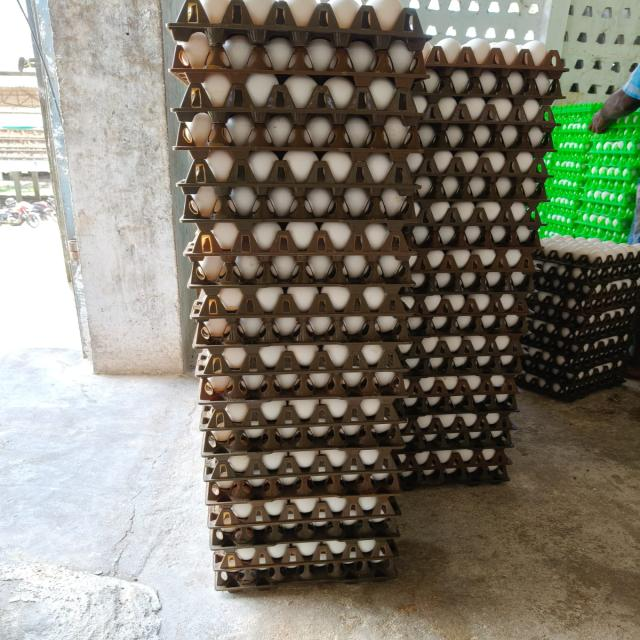egg_tray: (192, 225, 411, 348), (173, 35, 425, 125), (182, 187, 540, 250), (193, 286, 529, 353), (187, 222, 414, 315), (173, 71, 419, 156), (202, 397, 401, 502), (202, 398, 399, 504), (174, 76, 419, 159), (174, 74, 417, 156), (521, 236, 639, 400), (173, 74, 424, 151), (399, 334, 521, 488), (207, 449, 399, 546), (167, 0, 428, 66), (210, 478, 397, 568), (185, 221, 415, 294), (414, 38, 564, 147), (204, 424, 402, 501), (209, 482, 399, 562), (192, 285, 413, 352), (188, 222, 412, 288), (207, 472, 400, 548), (208, 476, 399, 550), (207, 432, 400, 505), (171, 33, 427, 88), (202, 399, 405, 467), (211, 496, 397, 570), (208, 474, 399, 546), (407, 149, 548, 244), (211, 517, 397, 589), (408, 149, 548, 244), (541, 105, 637, 242), (219, 399, 401, 471), (198, 343, 405, 406), (413, 150, 548, 245), (196, 344, 406, 404), (209, 495, 399, 561), (407, 201, 540, 294), (413, 66, 558, 147), (174, 113, 420, 160), (200, 397, 403, 453), (208, 492, 399, 550), (181, 186, 425, 231), (398, 396, 516, 489), (178, 150, 414, 196), (204, 449, 399, 504), (205, 449, 399, 504), (204, 445, 398, 499), (205, 448, 398, 502), (196, 343, 405, 392), (208, 495, 400, 547), (189, 250, 415, 294), (186, 220, 415, 263), (407, 141, 549, 209), (204, 448, 397, 498), (196, 344, 404, 390), (188, 252, 415, 294), (520, 316, 633, 400), (202, 398, 398, 446), (214, 540, 397, 590), (398, 411, 515, 488), (403, 270, 532, 339), (423, 38, 566, 100), (413, 94, 555, 156), (203, 426, 403, 470), (399, 292, 530, 359), (201, 397, 401, 440), (398, 292, 530, 357), (531, 236, 639, 315), (414, 48, 563, 105), (419, 98, 555, 158), (413, 94, 555, 147), (523, 318, 634, 384), (406, 201, 541, 254), (407, 150, 548, 199), (519, 331, 632, 392), (202, 423, 404, 457), (408, 202, 540, 254), (402, 375, 517, 433), (537, 108, 588, 236), (411, 242, 535, 294), (405, 292, 530, 343), (407, 245, 535, 294), (554, 103, 639, 176), (414, 200, 540, 246), (216, 559, 397, 591), (214, 539, 398, 570), (524, 306, 635, 357), (549, 178, 635, 242), (397, 375, 518, 419), (523, 318, 632, 366), (523, 318, 633, 365), (534, 235, 639, 284), (529, 279, 637, 326), (413, 170, 546, 208), (534, 236, 639, 284), (403, 334, 522, 376), (418, 121, 553, 158), (398, 446, 511, 490), (526, 305, 635, 350), (402, 442, 508, 488), (520, 355, 627, 400), (586, 114, 639, 204), (523, 334, 633, 377), (523, 337, 632, 380), (402, 412, 515, 452), (541, 125, 590, 216), (521, 359, 626, 401), (412, 242, 538, 275), (528, 307, 634, 346), (412, 439, 508, 481), (565, 184, 634, 242), (535, 260, 639, 298), (530, 281, 638, 315), (405, 374, 518, 406), (530, 300, 636, 333), (536, 273, 639, 306), (405, 389, 516, 419), (523, 371, 624, 402), (559, 202, 634, 242), (401, 464, 510, 491), (555, 206, 633, 242), (581, 166, 636, 215), (553, 107, 593, 174), (538, 184, 589, 236), (546, 129, 588, 189), (552, 106, 593, 160), (589, 125, 639, 168), (553, 107, 593, 159), (540, 196, 590, 236), (547, 156, 584, 208), (541, 173, 583, 218), (554, 102, 601, 141), (350, 42, 419, 68), (586, 158, 638, 190), (324, 558, 393, 579), (555, 102, 601, 130), (600, 111, 639, 140), (217, 570, 274, 588), (273, 564, 322, 583), (299, 40, 335, 65), (216, 441, 247, 467), (251, 500, 297, 517), (264, 451, 298, 473), (290, 223, 329, 242), (293, 476, 320, 496), (216, 452, 246, 468), (502, 314, 526, 334), (328, 476, 352, 494), (297, 496, 339, 506), (429, 474, 471, 483), (207, 429, 236, 442), (311, 449, 354, 457), (203, 408, 220, 427), (266, 451, 294, 462), (193, 124, 207, 146), (273, 223, 291, 239), (356, 540, 375, 553), (217, 223, 237, 235), (451, 131, 468, 144), (216, 444, 230, 459), (234, 488, 253, 499), (514, 112, 527, 128), (532, 117, 549, 129), (513, 278, 530, 290), (491, 229, 505, 243), (262, 350, 277, 363), (317, 530, 339, 538), (268, 39, 287, 48), (438, 156, 450, 170), (232, 503, 247, 514), (362, 450, 389, 456), (245, 480, 265, 488), (357, 476, 367, 492), (427, 300, 439, 313), (452, 299, 465, 311), (491, 230, 504, 242), (260, 402, 279, 410), (363, 398, 382, 406), (205, 406, 223, 414), (210, 153, 223, 164), (414, 95, 424, 108), (325, 305, 341, 313), (324, 450, 345, 456), (492, 231, 502, 243), (229, 41, 239, 53), (297, 484, 309, 494), (330, 479, 342, 489), (329, 478, 339, 490), (492, 426, 505, 435), (236, 452, 246, 463), (226, 353, 237, 363), (332, 544, 344, 553), (420, 125, 432, 134), (357, 497, 378, 502), (229, 456, 242, 464), (351, 344, 361, 354), (194, 304, 203, 315), (259, 303, 270, 312), (178, 135, 189, 144), (326, 306, 340, 313), (301, 546, 315, 553), (221, 304, 234, 311), (220, 245, 233, 252), (211, 465, 221, 474), (414, 230, 423, 240), (290, 400, 300, 409), (260, 305, 271, 313), (470, 235, 481, 243), (494, 429, 503, 438), (237, 454, 246, 463), (295, 304, 305, 312), (476, 326, 486, 334), (260, 305, 271, 312), (294, 305, 305, 312), (281, 477, 292, 484), (204, 305, 211, 316), (295, 303, 306, 310), (328, 223, 346, 227), (422, 132, 431, 140), (437, 326, 449, 332), (465, 202, 473, 211), (229, 234, 236, 244), (237, 403, 247, 410), (258, 232, 268, 239), (518, 203, 525, 213), (265, 490, 282, 494), (296, 558, 309, 563), (359, 482, 367, 490), (393, 190, 401, 198), (329, 530, 336, 539), (473, 39, 482, 46), (289, 531, 296, 540), (580, 132, 590, 138), (223, 304, 233, 310), (373, 530, 388, 534), (414, 96, 421, 104), (473, 41, 487, 45), (303, 481, 310, 489), (299, 485, 306, 493), (396, 234, 403, 242), (223, 305, 234, 310), (316, 465, 326, 470), (213, 138, 223, 143), (519, 53, 526, 60), (284, 422, 291, 429), (405, 465, 412, 472), (399, 344, 405, 352), (234, 447, 242, 453), (356, 531, 364, 537), (306, 248, 314, 254), (364, 496, 376, 500), (210, 470, 215, 479), (189, 123, 194, 132), (467, 103, 474, 109), (463, 280, 470, 286), (441, 281, 447, 288), (454, 456, 461, 462), (385, 399, 391, 406), (594, 104, 601, 110), (460, 54, 465, 62), (218, 479, 226, 484), (444, 39, 454, 43), (257, 558, 265, 563), (276, 452, 286, 456), (421, 134, 427, 140), (361, 482, 367, 488), (220, 494, 229, 498), (351, 142, 357, 148), (334, 507, 343, 511), (254, 536, 259, 543), (307, 438, 312, 445), (537, 137, 542, 144), (401, 458, 406, 465), (385, 499, 390, 506), (394, 467, 397, 478), (259, 402, 267, 406), (318, 563, 326, 567), (287, 154, 295, 158), (335, 398, 343, 402), (621, 168, 629, 172), (451, 125, 459, 129), (434, 203, 442, 207), (633, 158, 637, 166), (479, 140, 485, 145), (350, 460, 353, 470), (245, 42, 250, 48), (321, 487, 327, 492), (253, 225, 259, 230), (317, 523, 327, 526), (351, 501, 357, 506), (601, 198, 611, 201), (590, 110, 594, 117), (368, 398, 375, 402), (342, 235, 349, 239), (332, 518, 339, 522), (494, 377, 501, 381), (297, 452, 306, 455), (331, 452, 340, 455), (442, 151, 451, 154), (523, 317, 525, 330), (406, 346, 411, 351), (226, 469, 231, 474), (456, 240, 461, 245), (469, 230, 474, 235), (474, 456, 479, 461), (610, 211, 615, 216), (318, 507, 323, 512), (418, 178, 424, 182), (235, 36, 243, 39), (443, 229, 449, 233), (224, 183, 228, 189), (586, 104, 592, 108), (493, 282, 499, 286), (587, 192, 591, 198), (568, 166, 579, 168), (221, 480, 228, 483), (216, 359, 221, 363), (358, 451, 363, 455), (326, 400, 331, 404), (407, 460, 412, 464), (495, 124, 500, 128), (252, 410, 257, 414), (505, 359, 510, 363), (349, 532, 354, 536), (260, 304, 265, 308), (331, 516, 336, 520), (307, 438, 312, 442), (235, 456, 244, 458), (409, 155, 412, 161), (532, 139, 535, 145), (367, 237, 370, 243), (570, 166, 579, 168), (270, 401, 279, 403), (333, 558, 339, 561), (379, 553, 388, 555), (460, 234, 466, 237), (365, 532, 371, 535), (357, 508, 363, 511), (244, 469, 248, 473), (567, 302, 571, 306), (321, 568, 325, 572), (210, 512, 214, 516), (358, 451, 362, 455), (331, 405, 335, 409), (381, 189, 385, 193), (213, 276, 217, 280), (410, 363, 414, 367), (303, 553, 311, 555), (454, 446, 462, 448), (210, 484, 214, 488), (551, 189, 555, 193), (471, 378, 475, 382), (444, 203, 448, 207), (221, 454, 225, 458), (349, 345, 354, 348), (217, 240, 220, 245), (275, 479, 278, 484), (301, 71, 306, 74), (350, 553, 353, 558), (522, 247, 527, 250), (414, 231, 419, 234), (505, 307, 510, 310), (226, 141, 229, 146), (330, 516, 335, 519), (338, 487, 341, 492), (207, 421, 210, 426), (368, 417, 373, 420), (446, 450, 451, 453), (619, 200, 624, 203), (331, 532, 334, 537), (301, 354, 308, 356), (212, 166, 214, 173), (232, 190, 234, 197), (355, 359, 359, 362), (325, 357, 328, 361), (396, 446, 400, 449), (547, 134, 550, 138), (583, 122, 586, 126), (345, 475, 349, 478), (358, 473, 362, 476), (475, 103, 479, 106), (449, 103, 452, 107), (398, 308, 401, 312), (225, 255, 229, 258), (392, 551, 395, 555), (262, 156, 268, 158), (270, 406, 273, 410), (333, 306, 337, 309), (483, 304, 487, 307), (212, 224, 215, 228), (293, 400, 297, 403), (268, 454, 274, 456), (512, 317, 515, 321), (518, 281, 522, 284), (307, 513, 311, 516), (335, 507, 339, 510), (359, 497, 363, 500), (556, 280, 558, 285), (619, 310, 624, 312), (220, 481, 225, 483), (223, 480, 228, 482), (495, 227, 500, 229), (294, 186, 299, 188), (249, 275, 254, 277), (481, 361, 486, 363), (614, 168, 619, 170), (347, 226, 349, 231), (265, 223, 270, 225), (478, 318, 483, 320), (332, 437, 335, 440), (583, 126, 586, 129), (464, 46, 467, 49), (323, 473, 326, 476), (217, 467, 220, 470), (238, 60, 241, 63), (385, 487, 388, 490), (305, 487, 308, 490), (318, 532, 321, 535), (395, 446, 398, 449), (587, 203, 590, 206), (497, 474, 500, 477), (409, 446, 412, 449), (218, 154, 221, 157), (463, 327, 466, 330), (213, 355, 215, 359), (252, 467, 254, 471), (238, 460, 240, 464), (230, 442, 232, 446), (296, 476, 298, 480), (219, 476, 221, 480), (332, 470, 334, 474), (362, 557, 366, 559), (382, 477, 386, 479), (297, 549, 301, 551), (479, 308, 483, 310), (497, 417, 499, 421), (361, 484, 365, 486), (324, 345, 331, 346), (267, 227, 274, 228), (318, 358, 320, 361), (318, 532, 321, 534), (569, 229, 571, 232), (217, 163, 219, 166), (590, 172, 592, 175), (598, 171, 600, 174), (426, 45, 428, 48), (474, 110, 476, 113), (219, 310, 222, 312), (563, 327, 565, 330), (427, 44, 430, 46), (344, 51, 346, 54), (332, 550, 335, 552), (284, 478, 287, 480), (378, 313, 381, 315), (238, 487, 240, 490), (340, 478, 342, 481), (318, 426, 321, 428), (486, 232, 488, 235), (551, 218, 553, 221), (396, 152, 399, 154), (361, 416, 364, 418), (258, 557, 259, 563), (491, 284, 494, 286), (252, 64, 255, 66), (301, 256, 304, 258), (395, 247, 398, 249), (205, 245, 207, 248), (210, 234, 212, 237), (211, 156, 213, 159), (371, 508, 374, 510), (404, 400, 407, 402), (461, 296, 463, 299), (423, 125, 428, 126), (392, 492, 397, 493), (319, 558, 324, 559), (381, 532, 386, 533), (225, 487, 230, 488), (299, 238, 300, 243), (210, 360, 212, 362), (327, 442, 329, 444), (588, 116, 590, 118), (588, 118, 590, 120), (286, 466, 288, 468), (299, 247, 303, 248), (229, 227, 231, 229), (532, 202, 534, 204), (425, 178, 427, 180), (314, 476, 316, 478), (545, 138, 547, 140), (282, 402, 284, 404), (225, 486, 227, 488), (225, 481, 227, 483), (237, 460, 239, 462), (299, 156, 303, 157), (225, 487, 227, 489), (276, 482, 277, 486), (363, 478, 365, 480), (363, 400, 367, 401), (368, 188, 370, 190), (359, 43, 363, 44), (404, 452, 406, 454), (245, 481, 247, 483), (334, 256, 338, 257), (327, 527, 331, 528), (296, 156, 300, 157), (523, 206, 524, 210), (498, 413, 500, 415), (497, 204, 499, 206), (497, 206, 499, 208), (551, 348, 553, 350), (252, 467, 253, 471), (227, 456, 229, 458), (327, 351, 330, 352), (382, 436, 385, 437), (398, 309, 401, 310), (372, 252, 375, 253), (375, 554, 378, 555), (287, 556, 290, 557), (217, 163, 220, 164), (375, 418, 378, 419), (280, 407, 283, 408), (310, 298, 311, 301), (447, 312, 450, 313), (482, 298, 485, 299), (361, 223, 362, 226), (319, 169, 322, 170), (237, 36, 240, 37), (377, 418, 380, 419), (513, 215, 514, 218), (404, 400, 405, 403), (432, 327, 435, 328), (365, 437, 366, 440), (293, 538, 295, 539), (349, 442, 351, 443), (369, 438, 371, 439), (525, 195, 527, 196), (207, 158, 208, 160), (548, 208, 550, 209), (598, 174, 600, 175), (210, 393, 212, 394), (618, 174, 619, 176), (426, 45, 427, 47), (426, 47, 427, 49), (458, 44, 459, 46), (579, 316, 581, 317), (567, 314, 568, 316), (555, 328, 556, 330), (368, 556, 370, 557), (382, 473, 383, 475), (409, 144, 410, 146), (244, 38, 245, 40), (294, 558, 295, 560), (288, 478, 290, 479), (291, 348, 293, 349), (383, 425, 385, 426), (316, 405, 318, 406), (556, 231, 558, 232), (406, 255, 407, 257), (196, 190, 197, 192), (403, 189, 405, 190), (257, 190, 259, 191), (487, 238, 488, 240), (472, 225, 474, 226), (459, 425, 461, 426), (221, 481, 223, 482), (547, 233, 549, 234), (301, 156, 303, 157), (465, 320, 466, 322), (503, 318, 504, 320), (504, 319, 506, 320), (267, 516, 268, 518), (318, 518, 319, 519), (554, 207, 555, 208), (486, 43, 487, 44), (229, 294, 230, 295), (551, 325, 552, 326), (253, 234, 254, 235), (312, 478, 313, 479), (229, 567, 230, 568), (272, 481, 273, 482), (302, 492, 303, 493), (340, 345, 341, 346), (330, 307, 331, 308), (218, 233, 219, 234), (346, 194, 347, 195), (316, 518, 317, 519), (233, 407, 234, 408), (227, 405, 228, 406), (514, 212, 515, 213), (541, 176, 542, 177), (485, 443, 486, 444), (289, 487, 290, 488), (636, 136, 637, 137), (591, 114, 592, 115), (452, 203, 453, 204), (502, 187, 503, 188), (326, 509, 327, 510), (305, 507, 306, 508), (300, 368, 301, 368), (334, 528, 334, 528), (304, 452, 307, 452), (588, 118, 588, 118), (494, 50, 494, 50), (378, 474, 381, 474), (503, 347, 503, 348), (252, 292, 252, 292), (563, 323, 564, 323), (316, 261, 319, 261), (257, 250, 257, 250), (292, 470, 293, 470), (254, 430, 256, 430), (465, 48, 466, 48), (487, 238, 487, 240), (454, 140, 454, 141), (294, 401, 294, 401), (289, 401, 291, 401), (288, 564, 288, 566), (316, 492, 316, 492), (321, 490, 321, 492), (325, 488, 326, 488), (241, 47, 241, 48), (272, 568, 273, 568), (290, 559, 290, 559), (331, 532, 333, 532), (226, 483, 228, 483), (386, 330, 388, 330), (332, 532, 333, 532), (254, 425, 254, 426), (304, 408, 306, 408), (560, 221, 561, 221), (334, 534, 334, 534), (334, 519, 334, 519), (508, 463, 510, 463), (417, 314, 419, 314), (218, 283, 218, 283), (210, 274, 210, 274), (210, 260, 210, 262), (262, 188, 264, 188), (396, 184, 396, 186), (245, 498, 245, 499), (203, 414, 204, 414), (510, 221, 510, 221), (412, 361, 412, 362), (270, 554, 271, 554), (414, 264, 414, 266), (576, 332, 577, 332), (442, 450, 443, 450), (454, 443, 454, 444), (252, 481, 253, 481), (351, 452, 352, 452), (245, 288, 246, 288), (210, 162, 210, 164), (509, 423, 510, 423), (427, 381, 428, 381), (474, 328, 474, 328), (440, 319, 441, 319), (463, 316, 463, 317), (447, 230, 448, 230), (541, 150, 542, 150), (377, 438, 377, 439)
